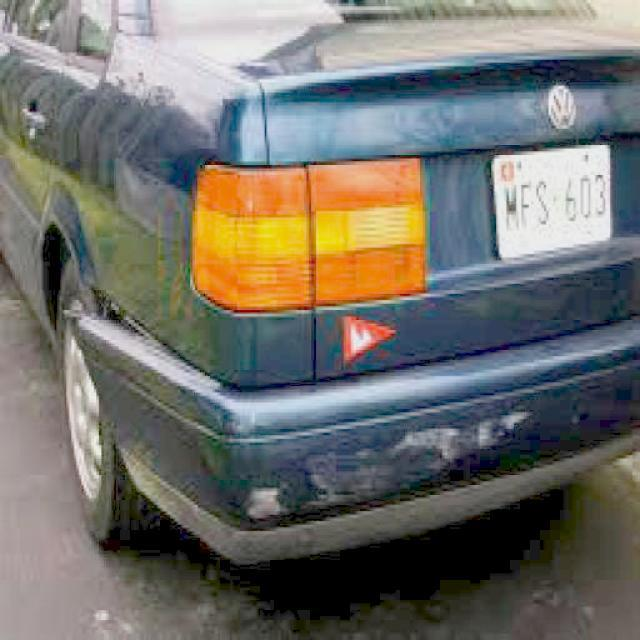car damage: (251, 403, 538, 521), (70, 276, 218, 395)
